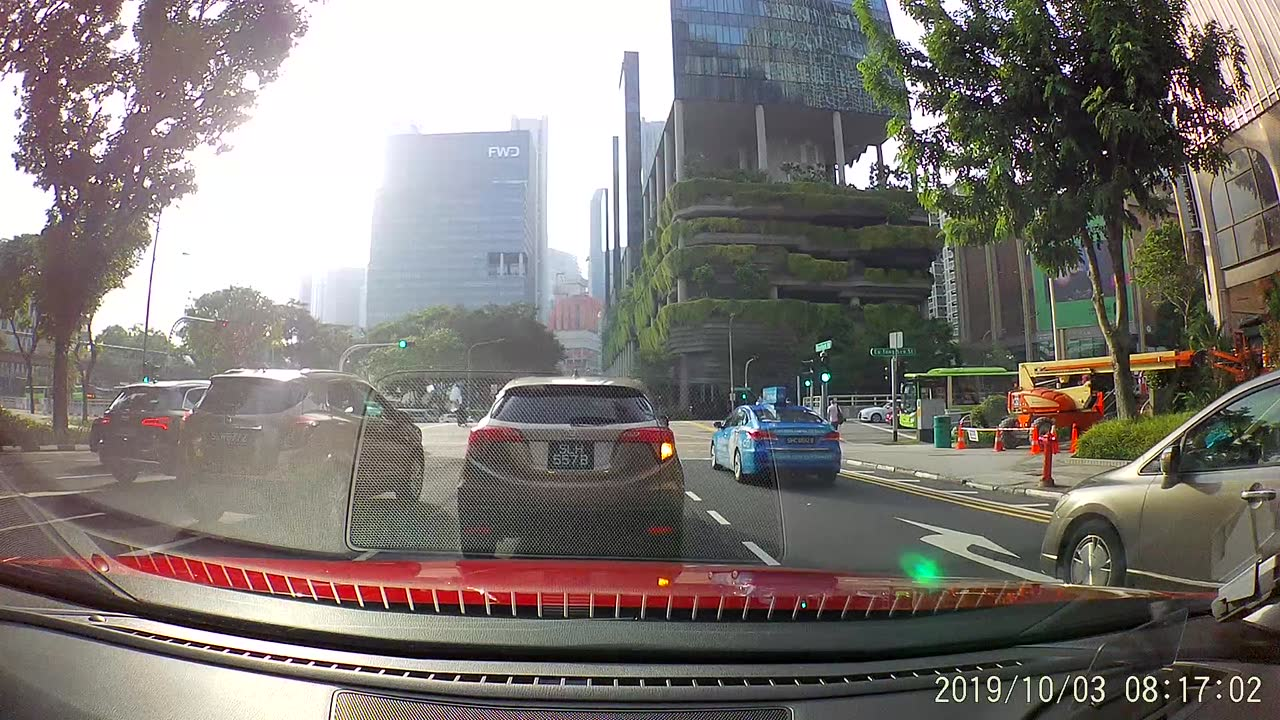bus: (896, 367, 1019, 437)
car: (1032, 355, 1279, 586), (445, 361, 688, 560), (173, 363, 425, 537), (705, 390, 843, 488), (98, 378, 208, 491), (855, 395, 902, 427)
